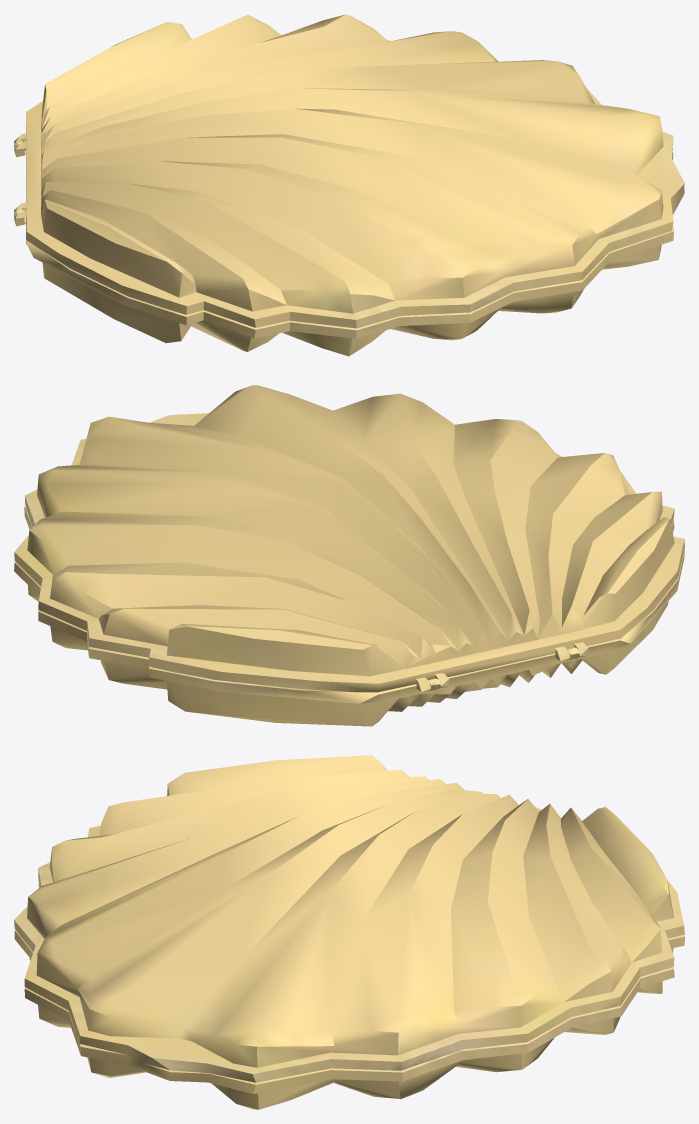
File: powder-box-glass.lod1.glb
3 views of the same model, one above another, from view 1: azimuth 30°, elevation 25°; view 2: azimuth 150°, elevation 25°; view 3: azimuth 270°, elevation 25° (orthographic). The views are drawn at different scales.
Visible parts, largest first — view 1: powder-box-glass; view 2: powder-box-glass; view 3: powder-box-glass.
Boxes of the visible parts, box(x1,y1,x2,y2) form: powder-box-glass: box(14, 14, 684, 356); powder-box-glass: box(14, 385, 684, 726); powder-box-glass: box(14, 755, 684, 1109).
Size of the model in its own units: 0.1228 by 0.0346 by 0.1182.
2 materials, 2 textured.
